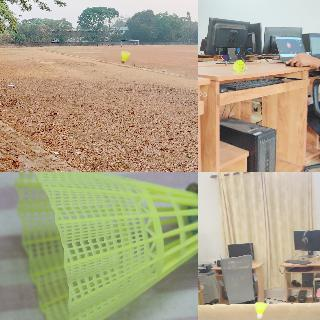shuttlecock: (13, 172, 197, 319), (254, 302, 266, 318), (120, 50, 130, 64), (234, 61, 246, 71)
